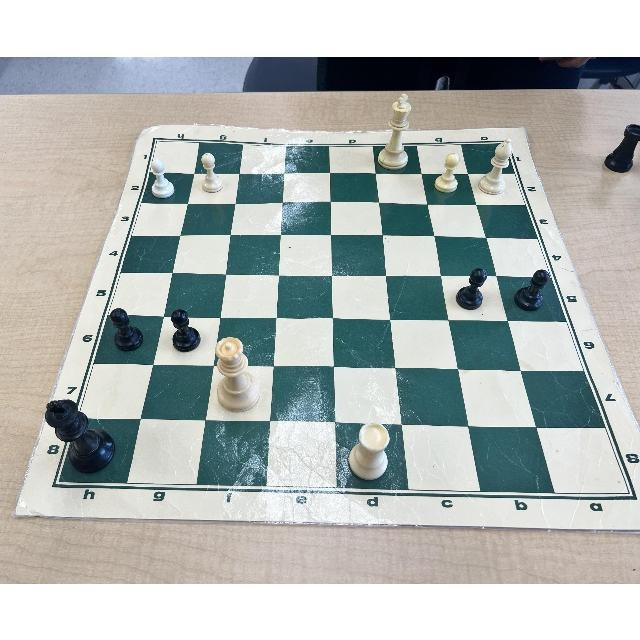black-king: (38, 393, 117, 477)
black-pawn: (454, 262, 489, 314), (106, 306, 145, 352), (513, 266, 551, 313), (168, 305, 204, 353)
white-bishop: (476, 137, 517, 195)
white-king: (375, 89, 417, 177)
white-pawn: (195, 150, 227, 194), (432, 150, 463, 194), (145, 156, 177, 198)
white-queen: (208, 335, 265, 415)
white-rook: (346, 416, 396, 483)
